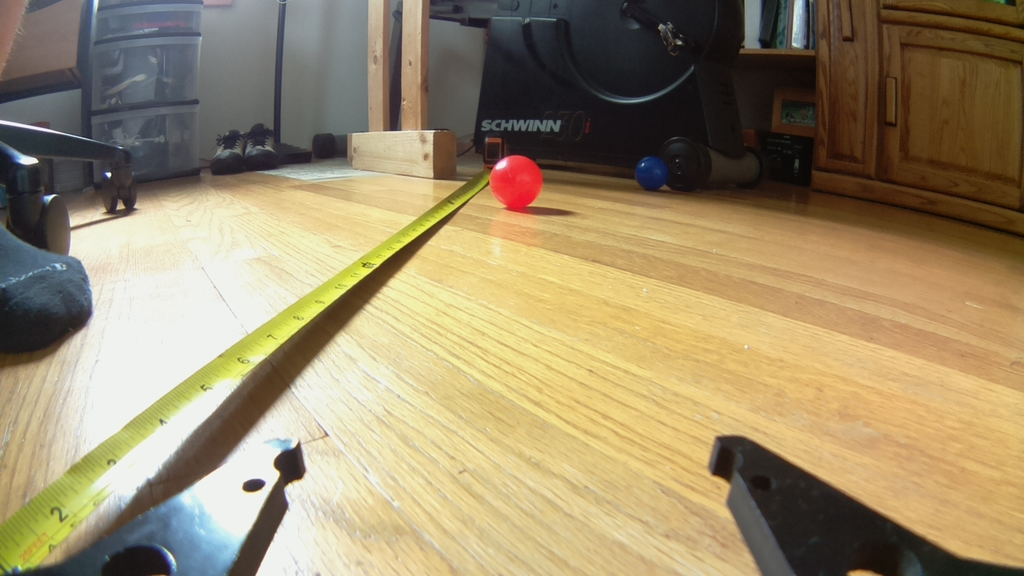ball: (488, 154, 544, 212)
